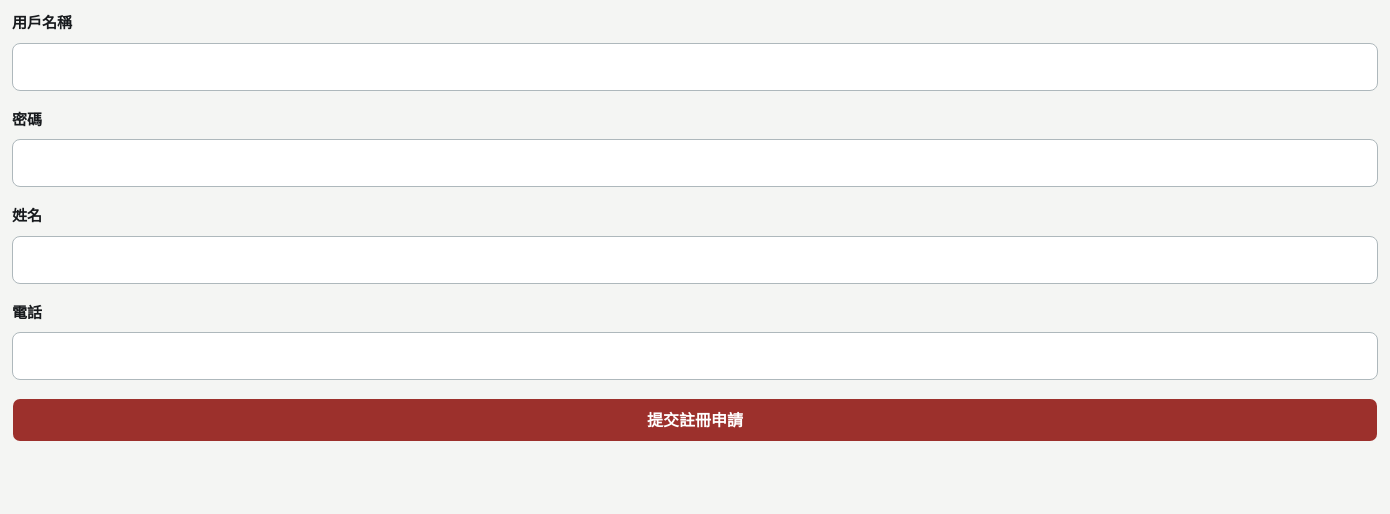
Test case: RegistrationForm › focuses the first invalid field and associates its error
Click the button "提交註冊申請" at (695, 420), box [12,398,1378,442]
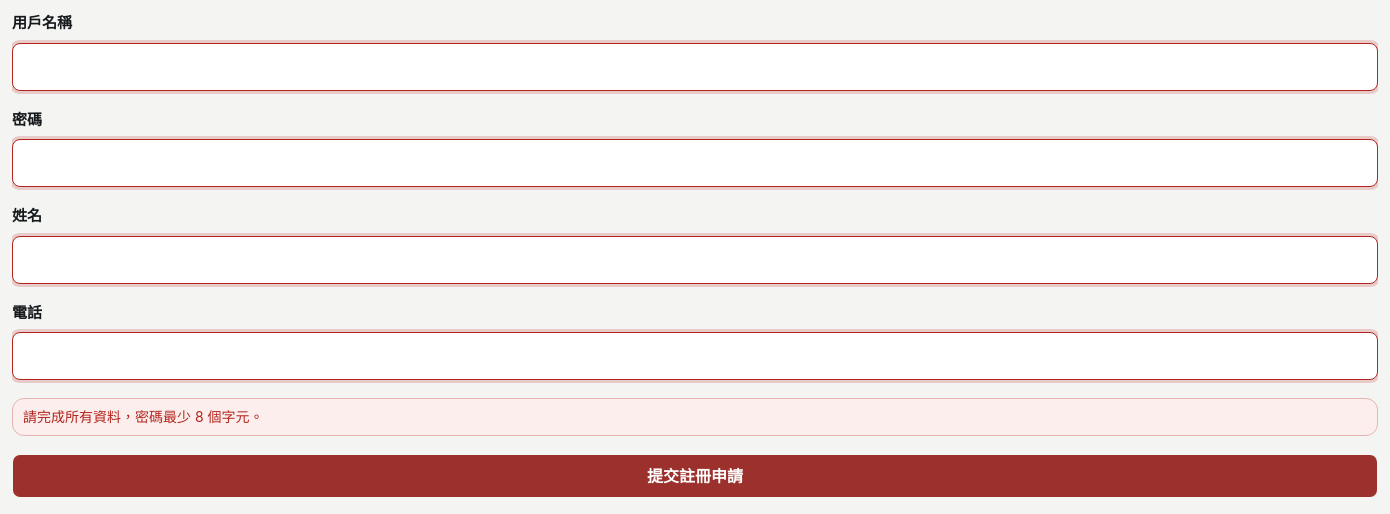
Check: the message reads "請完成所有資料，密碼最少 8 個字元。", box [23,408,264,425]
